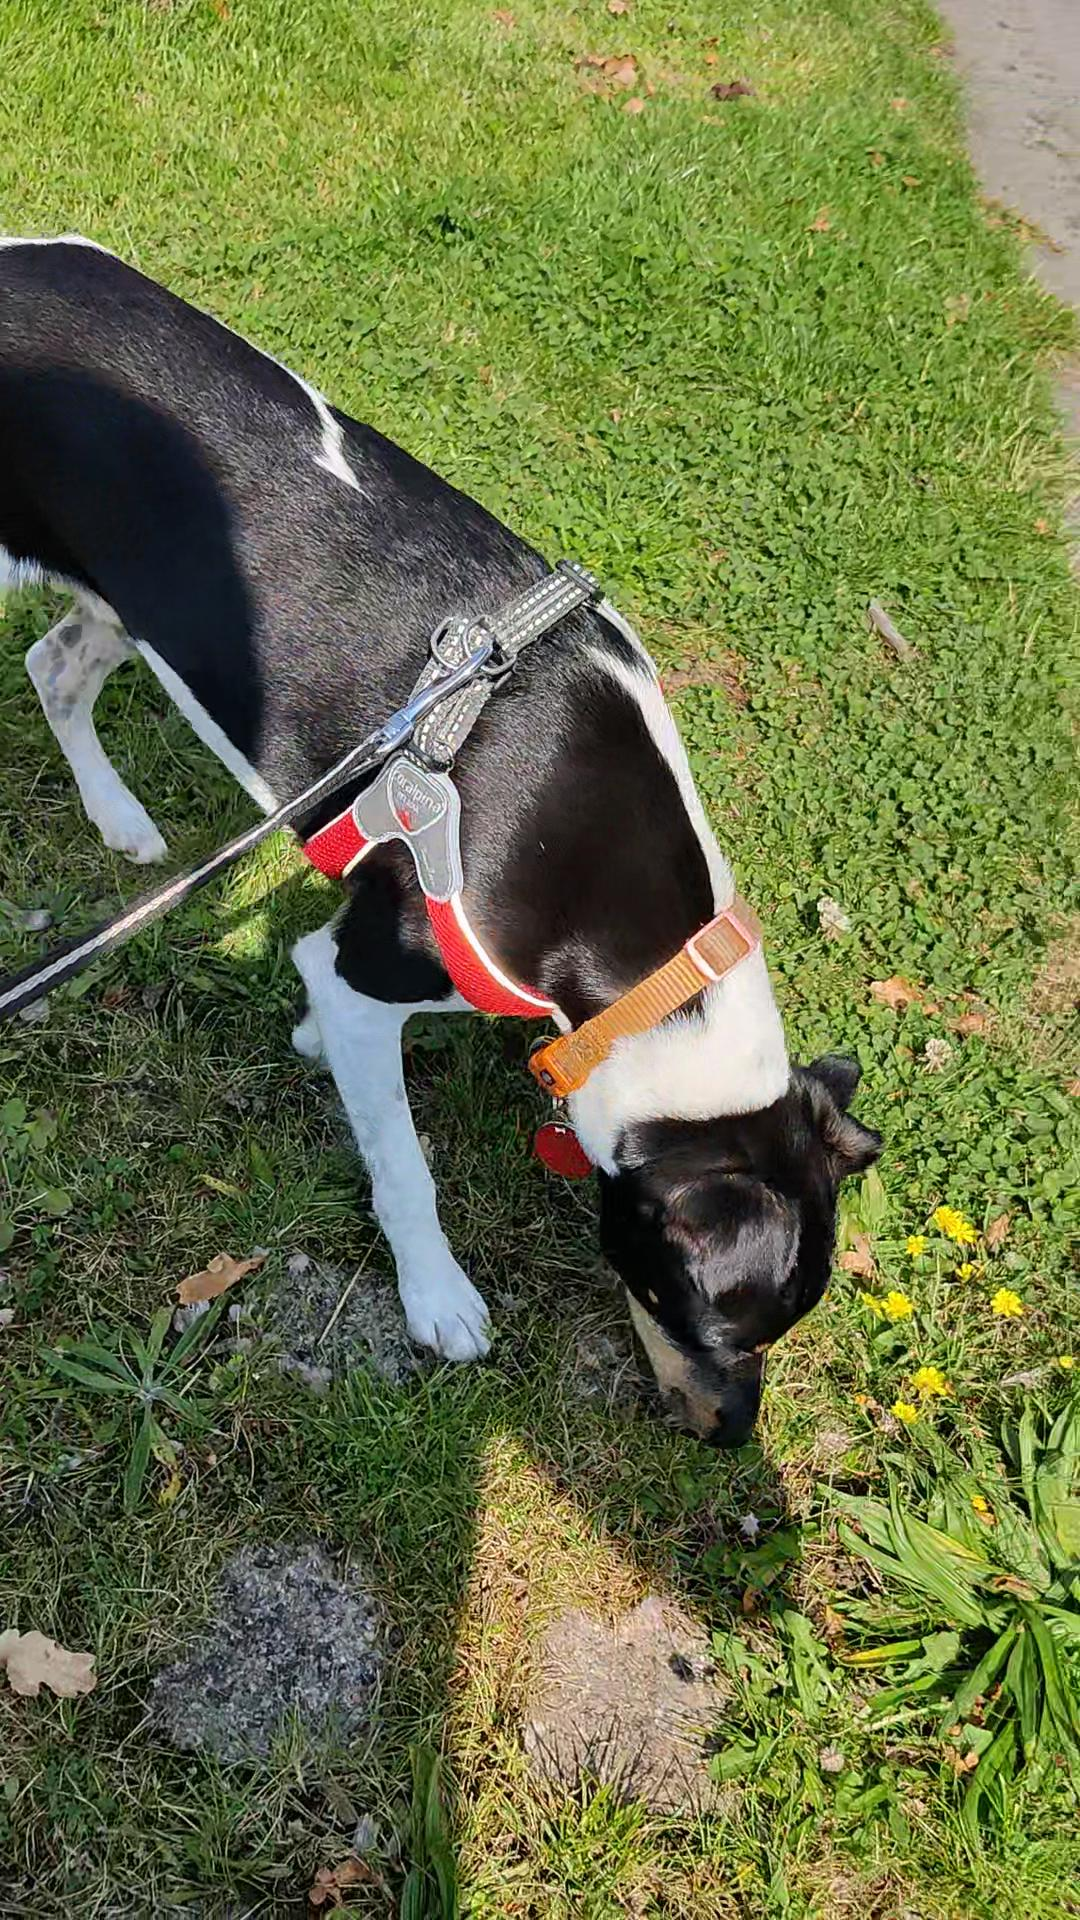Dog: (0, 170, 880, 1468)
